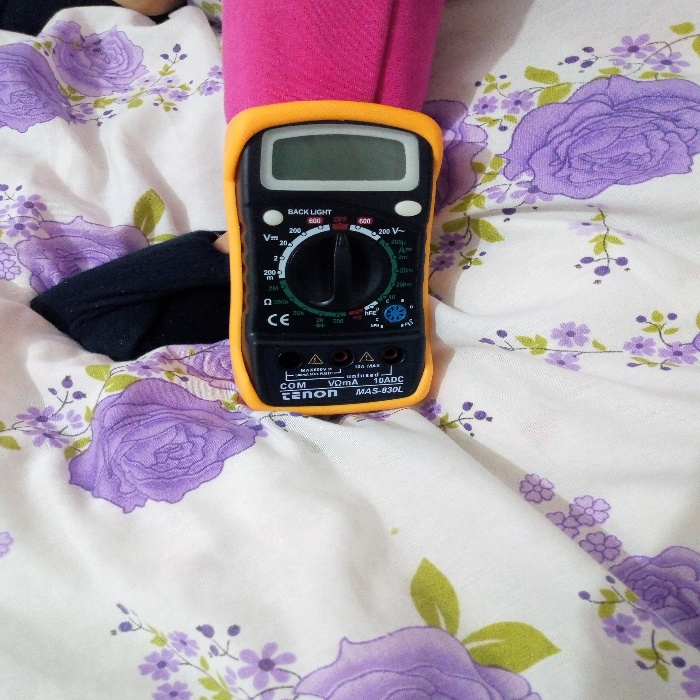multimetre: (198, 79, 462, 434)
